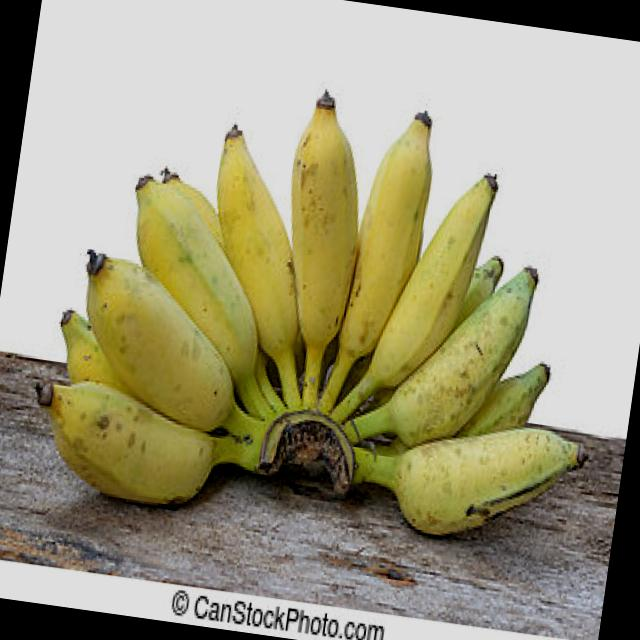Platano: (20, 48, 640, 570)
